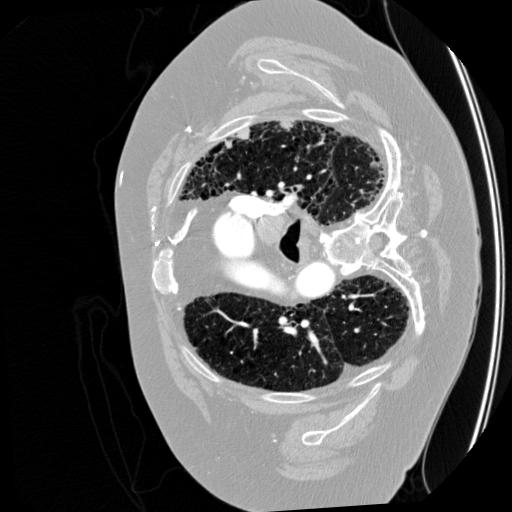nodule: (235, 123, 253, 141)
